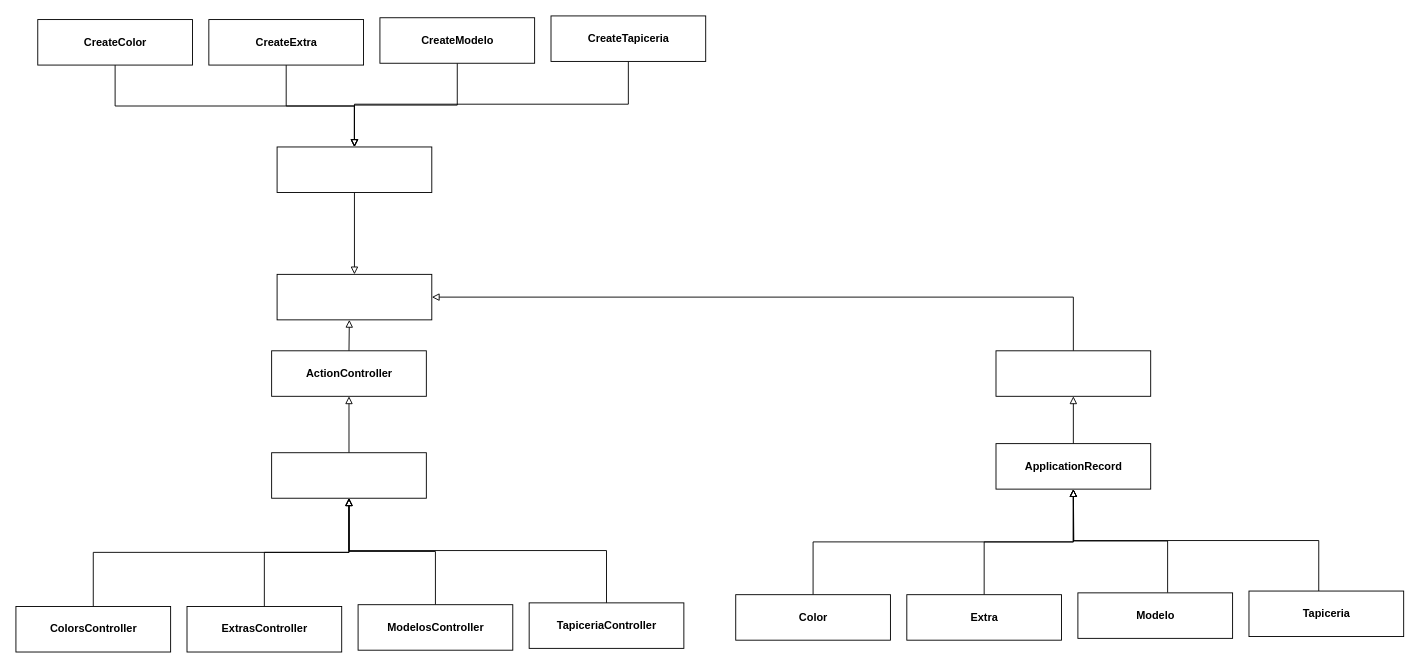
Image size: 1420x668. Some labels were removed from this diagram. The shapes that lost their labels are listed below. From the top down, each one's centre as x and y in pixels, then its label:
the point at 354,169: ActiveRecord::Migration
the point at 354,296: Base
the point at 1073,373: ActiveRecord::Base
the point at 348,475: ApplicationController
